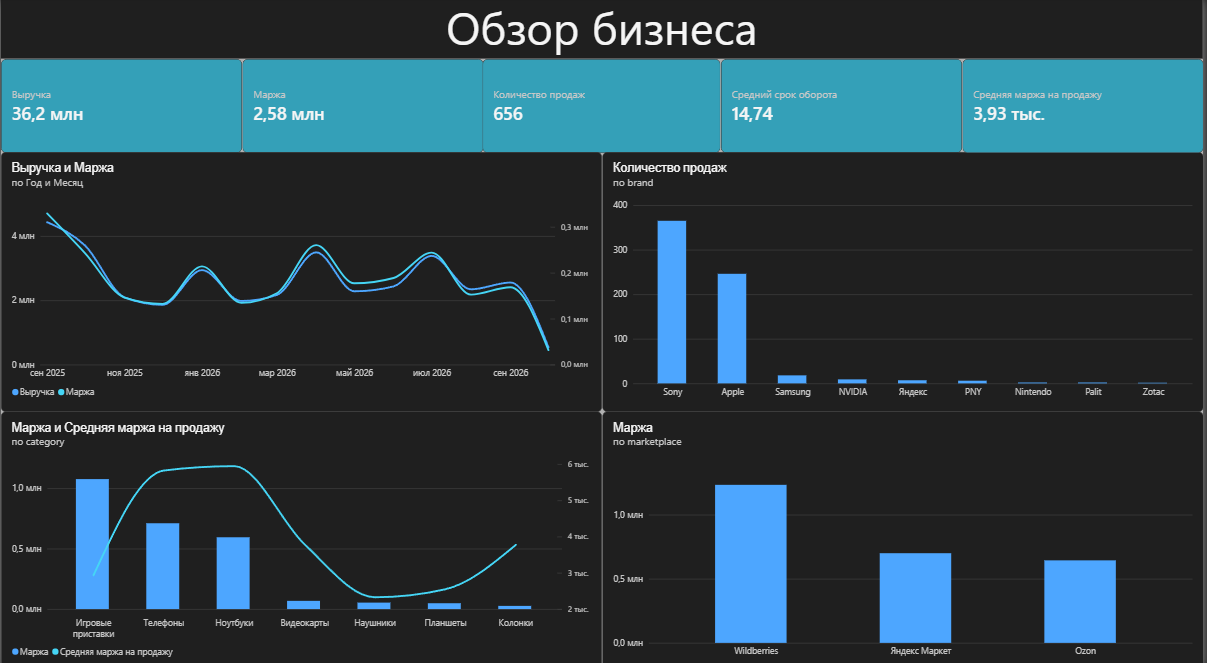

Layout of this report page (visuals, bound fields, positions):
{"tool":"powerbi","page":{"name":"Обзор бизнеса","canvas":[1920,1080],"ordinal":0},"visuals":[{"type":"cardVisual","fields":{"Data":["Sales.Выручка"]},"box":[0,100,385,150],"z":1000},{"type":"cardVisual","fields":{"Data":["Sales.Маржа"]},"box":[385,100,385,150],"z":2000},{"type":"cardVisual","fields":{"Data":["Sales.Количество продаж"]},"box":[770,100,380,150],"z":3000},{"type":"cardVisual","fields":{"Data":["Sales.Средний срок оборота"]},"box":[1150,100,385,150],"z":4000},{"type":"lineChart","fields":{"Category":["Sales.sale_date.Variation.Иерархия дат.Год","Sales.sale_date.Variation.Иерархия дат.Месяц"],"Y":["Sales.Выручка"],"Y2":["Sales.Маржа"]},"box":[0,250,960,415],"z":5000},{"type":"lineClusteredColumnComboChart","fields":{"Category":["Products.category"],"Y":["Sales.Маржа"],"Y2":["Sales.Средняя маржа на продажу"]},"box":[0,665,960,415],"z":6000},{"type":"clusteredColumnChart","fields":{"Category":["Products.brand"],"Y":["Sales.Количество продаж"]},"box":[960,250,960,415],"z":7000},{"type":"cardVisual","fields":{"Data":["Sales.Средняя маржа на продажу"]},"box":[1535,100,385,150],"z":8000},{"type":"clusteredColumnChart","fields":{"Category":["Suppliers.marketplace"],"Y":["Sales.Маржа"]},"box":[960,665,960,415],"z":9000},{"type":"textbox","box":[0,0,1920,100],"z":9500}]}

Visuals, with their boxes in screenshot pixels (x1, y1, x2, y2), scaled from the page's 1920x1080 canvas onto the 1207x663 screenshot:
cardVisual - Sales.Выручка: bbox(0, 61, 242, 153)
cardVisual - Sales.Маржа: bbox(242, 61, 484, 153)
cardVisual - Sales.Количество продаж: bbox(484, 61, 723, 153)
cardVisual - Sales.Средний срок оборота: bbox(723, 61, 965, 153)
lineChart - Sales.sale_date.Variation.Иерархия дат.Год x Sales.sale_date.Variation.Иерархия дат.Месяц: bbox(0, 153, 604, 408)
lineClusteredColumnComboChart - Products.category x Sales.Маржа: bbox(0, 408, 604, 662)
clusteredColumnChart - Products.brand x Sales.Количество продаж: bbox(604, 153, 1206, 408)
cardVisual - Sales.Средняя маржа на продажу: bbox(965, 61, 1206, 153)
clusteredColumnChart - Suppliers.marketplace x Sales.Маржа: bbox(604, 408, 1206, 662)
textbox: bbox(0, 0, 1206, 61)
